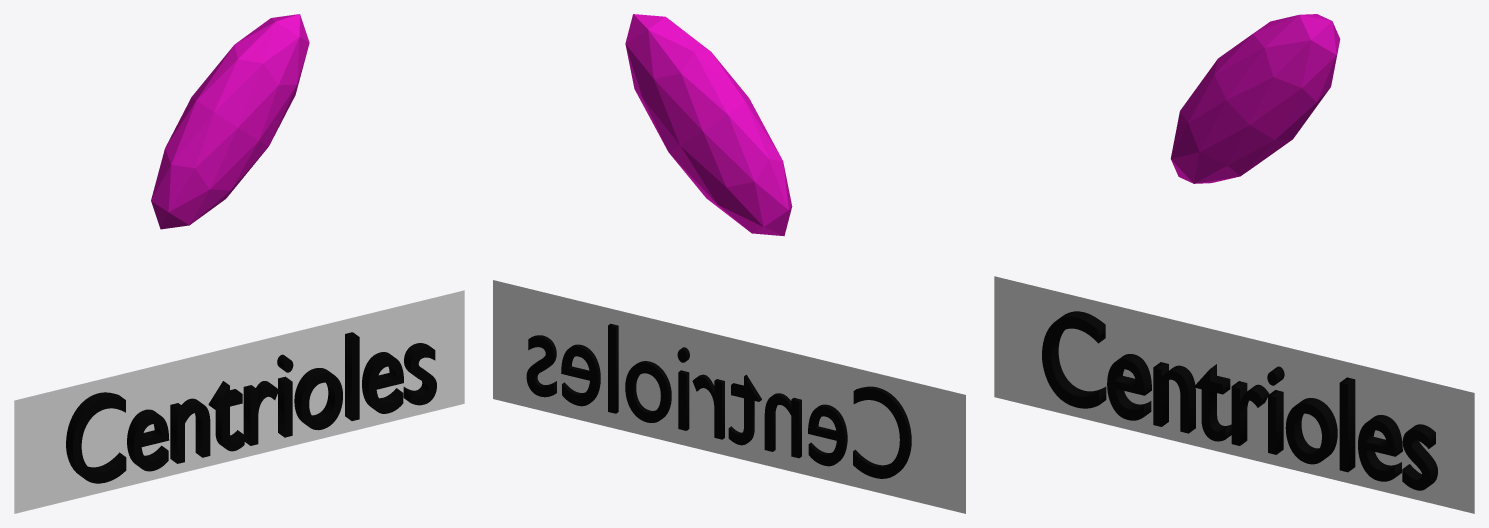
File: centrioles.gltf
The picture shows the model from 3 angles, left to right: view 1: azimuth 30°, elevation 25°; view 2: azimuth 150°, elevation 25°; view 3: azimuth 330°, elevation 25°; orthographic projection. The views are drawn at different scales.
Parts seen in each view (by area): view 1: Plane.026, Icosphere.002, Text.023; view 2: Plane.026, Icosphere.002, Text.023; view 3: Plane.026, Text.023, Icosphere.002.
Part boxes in pixels (left/top/right/bottom): Plane.026: left=14, top=290, right=464, bottom=513; Icosphere.002: left=151, top=14, right=309, bottom=229; Text.023: left=66, top=332, right=436, bottom=483; Plane.026: left=493, top=280, right=965, bottom=513; Icosphere.002: left=625, top=14, right=792, bottom=236; Text.023: left=526, top=323, right=911, bottom=478; Plane.026: left=994, top=276, right=1474, bottom=513; Text.023: left=1042, top=311, right=1437, bottom=490; Icosphere.002: left=1170, top=14, right=1340, bottom=183.
Bounding box in the file's own units: 1.01 × 0.8915 × 0.1512.
